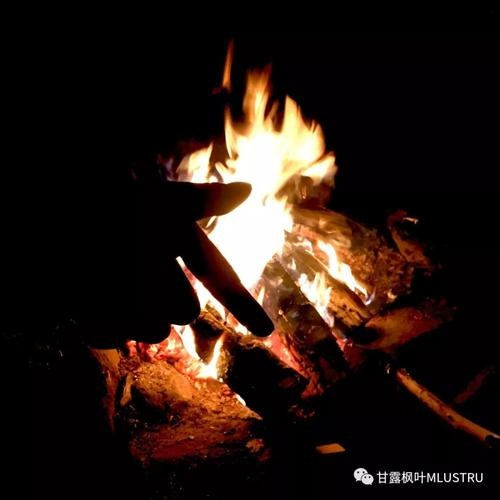fire: (173, 67, 373, 338), (147, 324, 230, 388)
